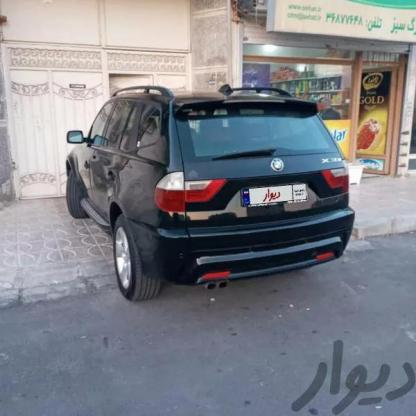Car: (61, 82, 355, 300)
